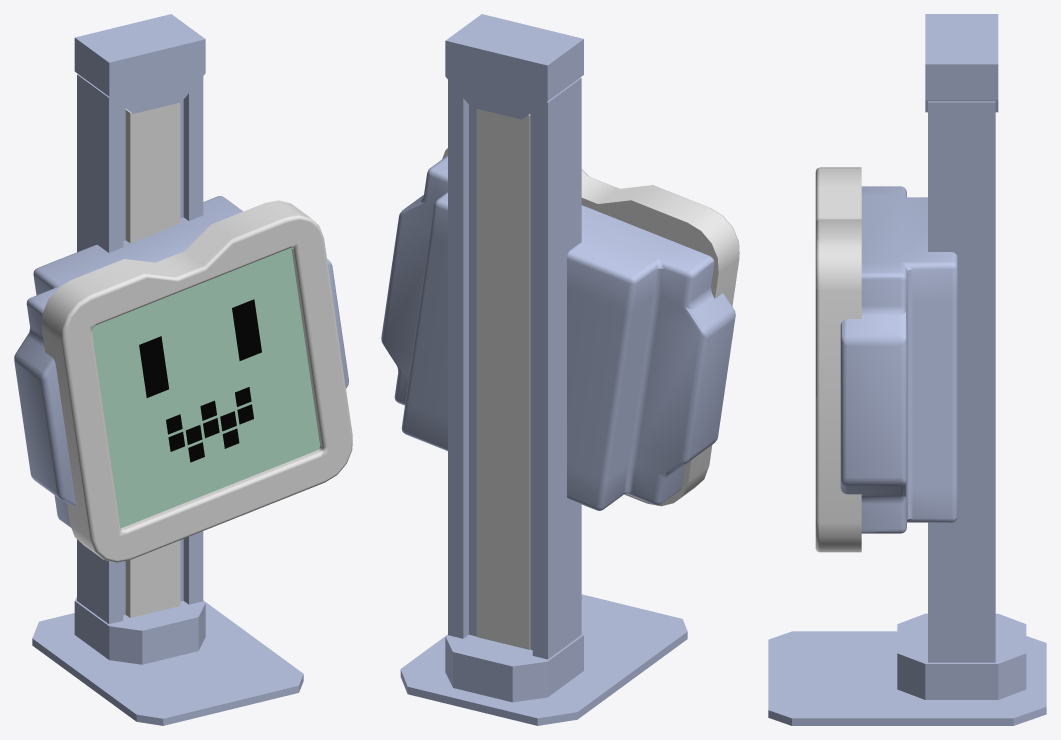
File: SNUH_Ray.fbx
The picture shows the model from 3 angles, left to right: view 1: azimuth 30°, elevation 25°; view 2: azimuth 150°, elevation 25°; view 3: azimuth 270°, elevation 25°; orthographic projection. The views are drawn at different scales.
Visible parts, largest first — view 1: Cube.007, Cube.006, Cube.009, Cube.005, Cube.008, Cube.010, Cube.011, Plane.001; view 2: Cube.005, Cube.009, Cube.008, Cube.006, Cube.010, Cube.007; view 3: Cube.005, Cube.009, Cube.006, Cube.007, Cube.010.
Boxes of the visible parts, <box> form: Cube.007: <box>41,200,352,562</box>; Cube.006: <box>32,597,303,725</box>; Cube.009: <box>77,74,203,623</box>; Cube.005: <box>14,196,348,527</box>; Cube.008: <box>125,102,180,617</box>; Cube.010: <box>74,14,205,113</box>; Cube.011: <box>139,299,261,397</box>; Plane.001: <box>166,387,253,462</box>; Cube.005: <box>381,155,735,510</box>; Cube.009: <box>448,77,581,659</box>; Cube.008: <box>476,109,530,649</box>; Cube.006: <box>400,594,687,725</box>; Cube.010: <box>445,14,583,119</box>; Cube.007: <box>442,148,739,506</box>; Cube.005: <box>840,186,957,533</box>; Cube.009: <box>928,101,995,662</box>; Cube.006: <box>768,613,1046,725</box>; Cube.007: <box>815,167,861,552</box>; Cube.010: <box>925,14,998,112</box>.
Bounding box in the file's own units: 203 × 381 × 149.
